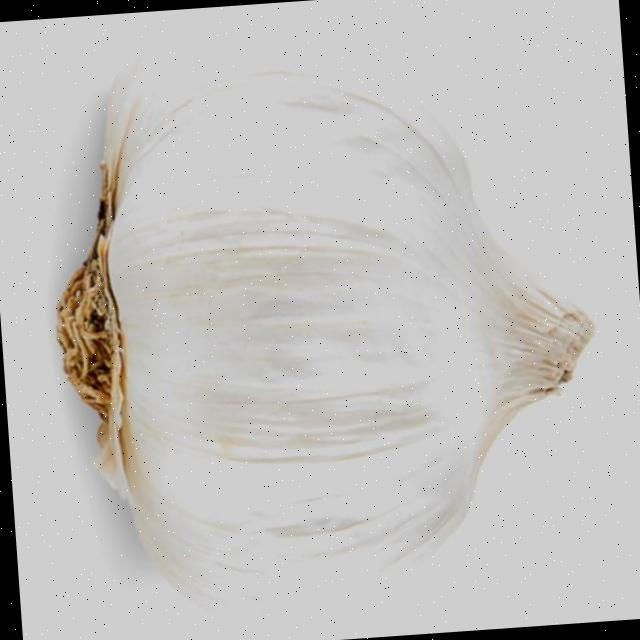garlic: (57, 10, 591, 631)
